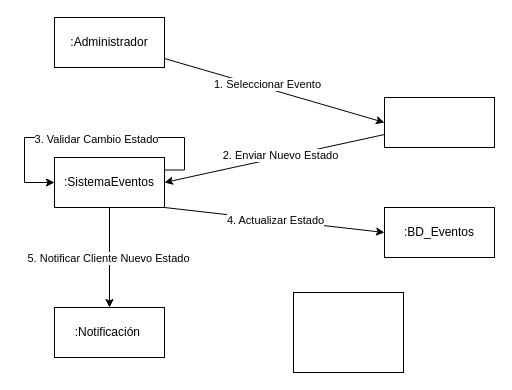
The diagram is 512 pixels wide and 390 high, and some of its shapes have lost their labels. Here are the shapes that lost their labels. From the top down, the centre of each, then its label:
At point (439, 122): ":UI_Eventos".
At point (348, 332): "Estados Posibles En planeación En proceso Terminado".
